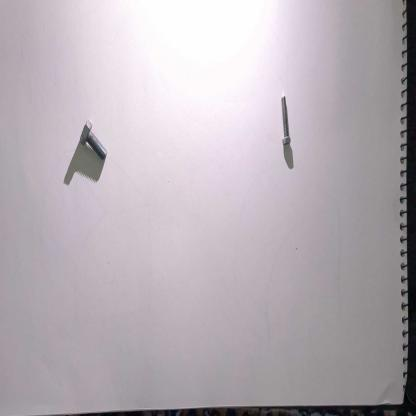Bolts: (78, 117, 110, 168), (276, 91, 297, 159)
